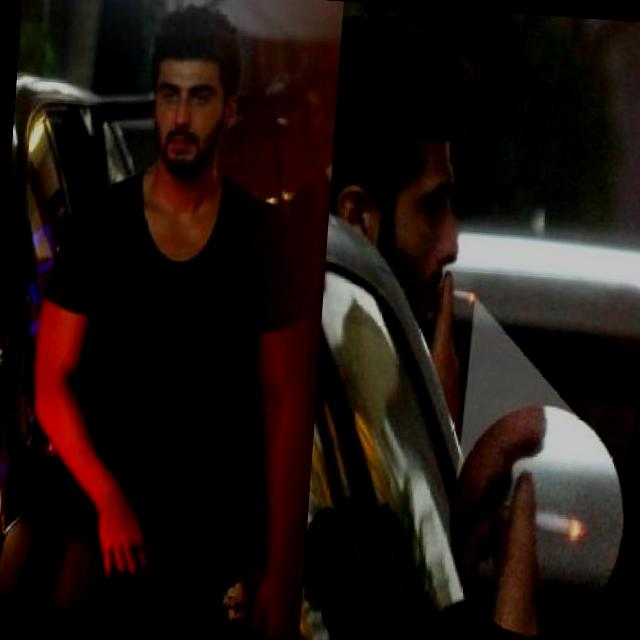smoke: (484, 498, 587, 544), (422, 280, 479, 306)
